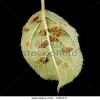Apple rust leaf: (20, 10, 86, 91)
